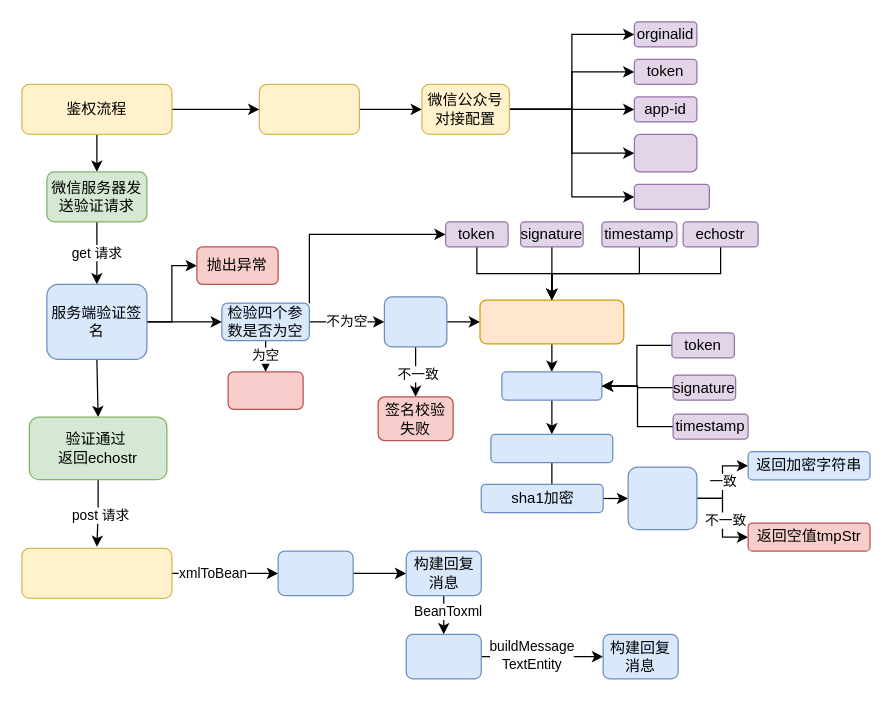
This 893x701 diagram has some shape labels left out. The centre of each missing label's shape, as x and y in pixels:
"app-secret" goes at (665,152).
"SignatureUtil.check" goes at (551,321).
"template_id" goes at (671,196).
"与signature比较" goes at (662,498).
"前置" goes at (308,108).
"字典排序" goes at (551,385).
"字节数组转字符串" goes at (551,447).
"接收微信公众号信息请求" goes at (96,572).
"校验合成签名" goes at (415,321).
"消息转为XML格式" goes at (443,656).
"解析XML信息" goes at (315,573).
"请求参数非法" goes at (265,390).
